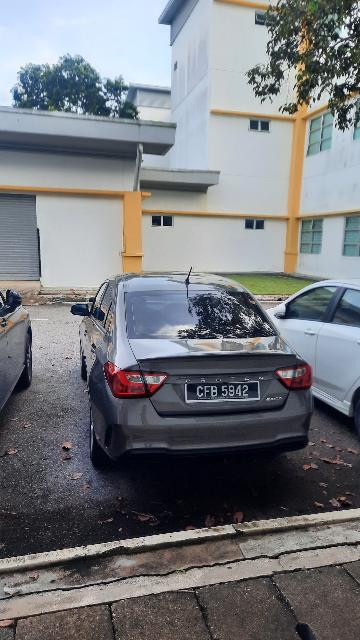License_Plate: (185, 382, 264, 406)
car: (68, 266, 319, 475)
